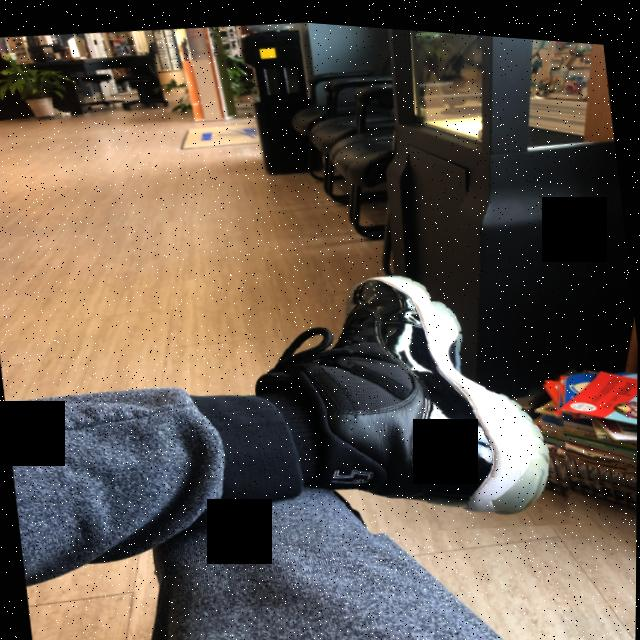shoe: (240, 228, 584, 552)
